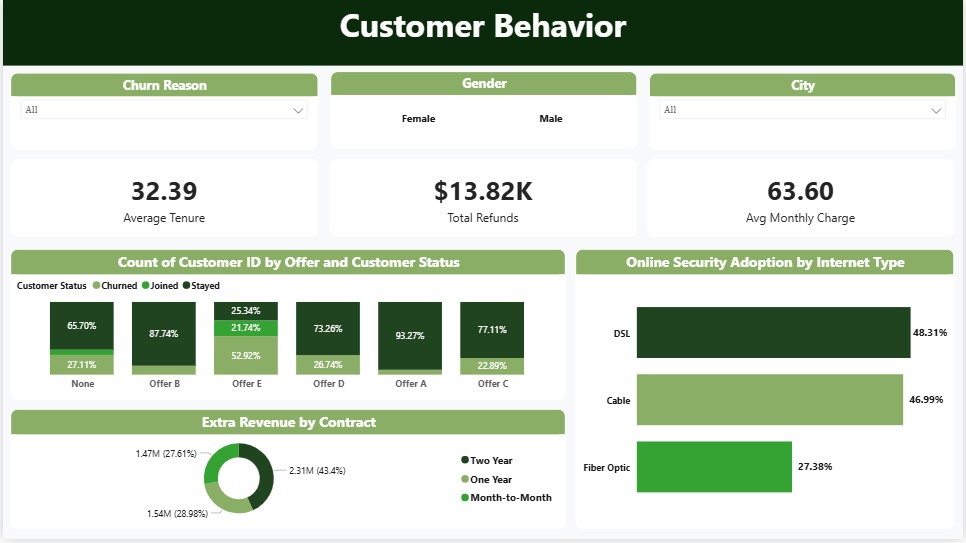

The dashboard page shown, as its layout file describes it:
{"tool":"powerbi","page":{"name":"Customer Behavior","canvas":[1280,720],"ordinal":1},"visuals":[{"type":"textbox","box":[0,0,1280.3,89.2],"z":0},{"type":"card","fields":{"Values":["#M__Measures.Average Tenure"]},"box":[10,212.7,410,104.3],"z":2},{"type":"card","fields":{"Values":["#M__Measures.Total Refunds"]},"box":[434.4,212.7,410.3,104.3],"z":3},{"type":"card","fields":{"Values":["#M__Measures.Avg Monthly Charge"]},"box":[859,212.7,410.3,104.3],"z":4},{"type":"hundredPercentStackedColumnChart","fields":{"Category":["telecom_customer_churn.Offer"],"Y":["CountNonNull(telecom_customer_churn.Customer ID)"],"Series":["telecom_customer_churn.Customer Status"]},"box":[9.5,333.6,740.2,201.7],"z":5},{"type":"slicer","title":"Churn Reason","fields":{"Values":["telecom_customer_churn.Churn Reason"]},"box":[10,98,410,103.3],"z":6},{"type":"slicer","title":"Gender","fields":{"Values":["telecom_customer_churn.Gender"]},"box":[436,97.4,408.9,102.9],"z":7},{"type":"slicer","title":"City","fields":{"Values":["telecom_customer_churn.City"]},"box":[861,98.8,408.9,102.9],"z":8},{"type":"donutChart","fields":{"Category":["telecom_customer_churn.Contract"],"Y":["#M__Measures.Extra Revenue"]},"box":[9.5,546.4,740.2,160.4],"z":9},{"type":"clusteredBarChart","fields":{"Category":["telecom_customer_churn.Internet Type"],"Y":["#M__Measures.Online Security Adoption"]},"box":[764.1,333.6,505.1,373.3],"z":10}]}

Visuals, with their boxes in screenshot pixels (x1, y1, x2, y2), scaled from the page's 1280x720 canvas onto the 966x543 screenshot:
textbox: 0 0 965 67
card - #M__Measures.Average Tenure: 8 160 317 239
card - #M__Measures.Total Refunds: 328 160 637 239
card - #M__Measures.Avg Monthly Charge: 648 160 958 239
hundredPercentStackedColumnChart - telecom_customer_churn.Offer x CountNonNull(telecom_customer_churn.Customer ID): 7 252 566 404
"Churn Reason" slicer: 8 74 317 152
"Gender" slicer: 329 73 638 151
"City" slicer: 650 75 958 152
donutChart - telecom_customer_churn.Contract x #M__Measures.Extra Revenue: 7 412 566 533
clusteredBarChart - telecom_customer_churn.Internet Type x #M__Measures.Online Security Adoption: 577 252 958 533
